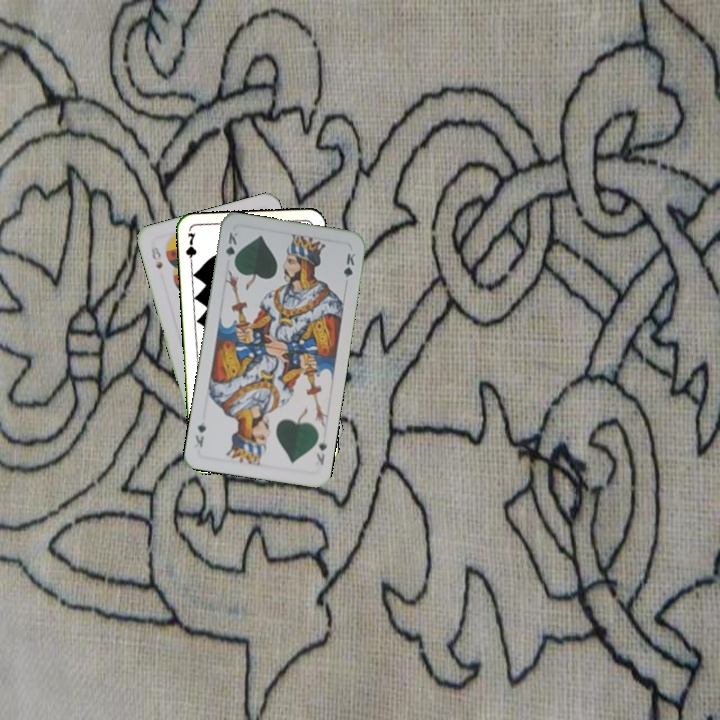G7: (182, 229, 199, 269)
GK: (221, 228, 241, 268), (311, 435, 329, 468)
S8: (147, 243, 165, 272)
